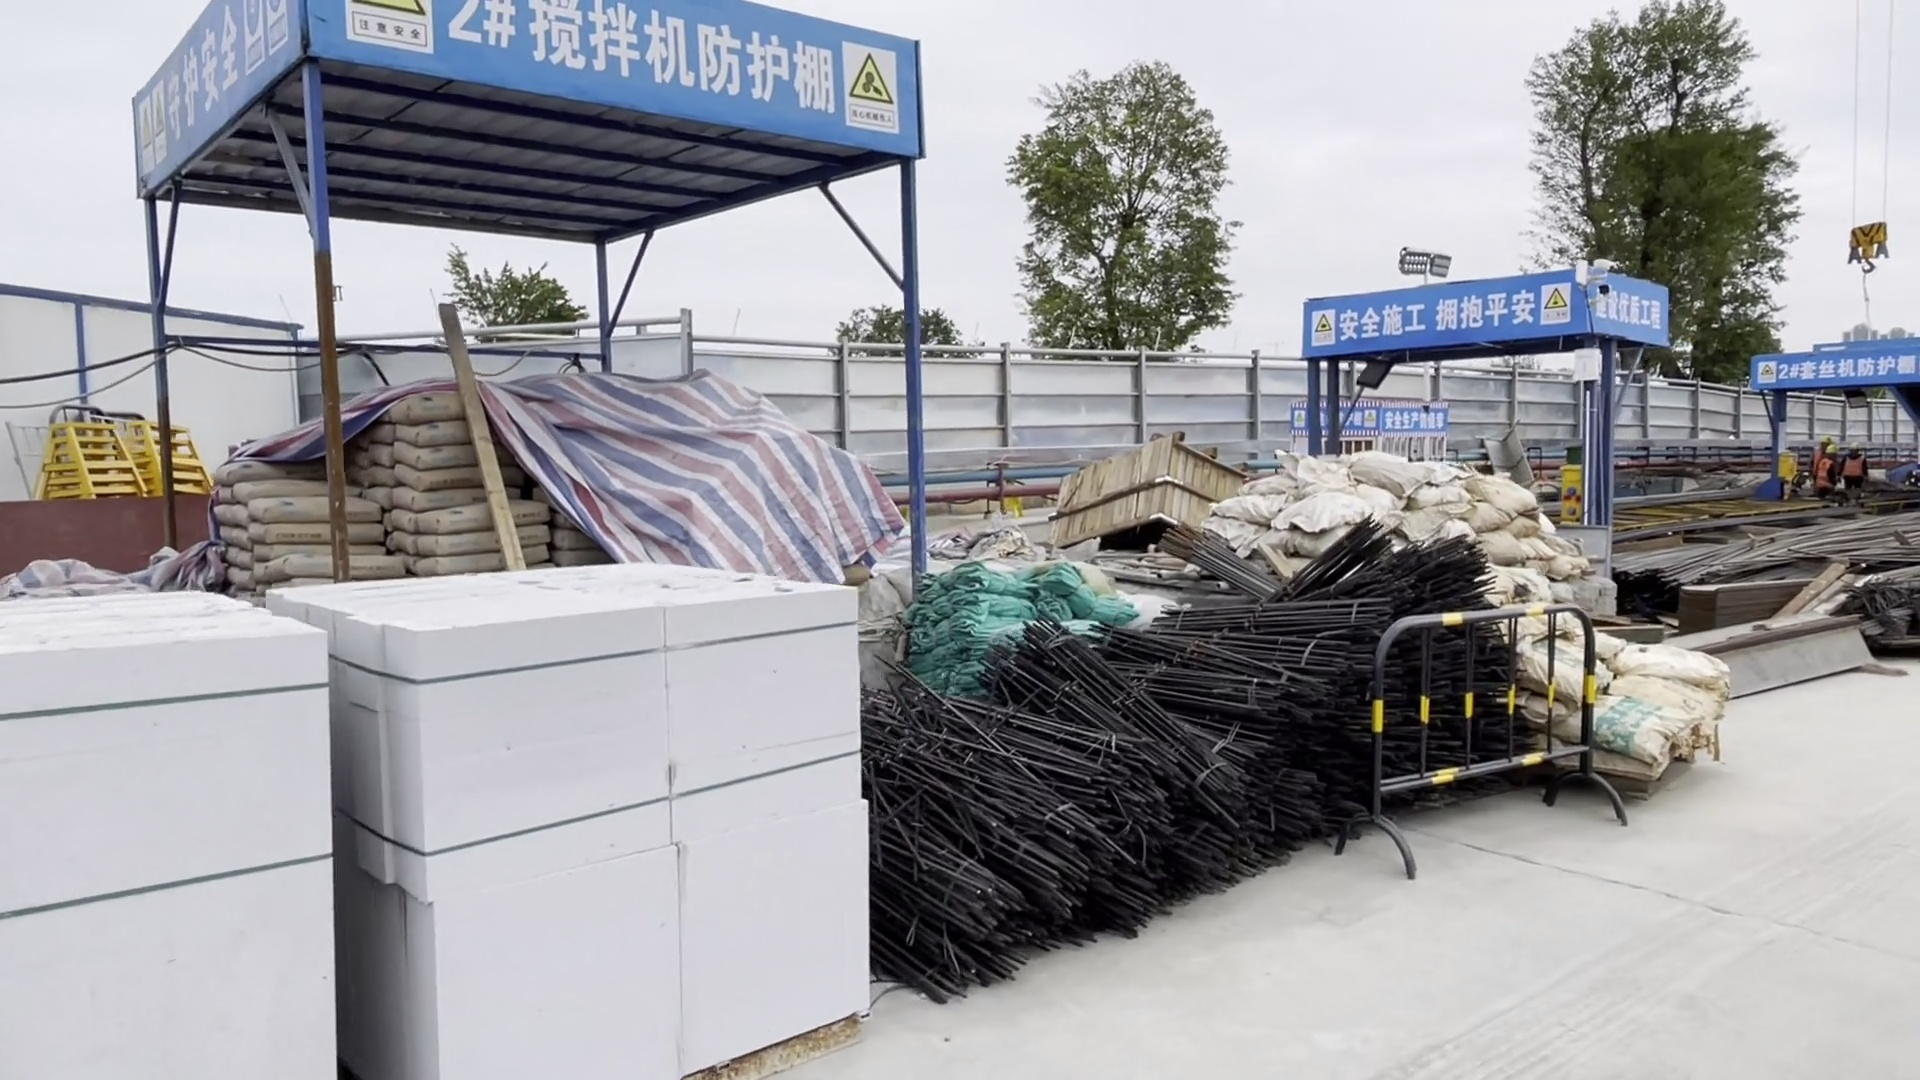brick: (357, 559, 858, 1080), (1, 585, 342, 1080)
ebox: (1549, 462, 1580, 527), (1774, 450, 1797, 484)
rebar: (1596, 512, 1920, 626)
slogan: (107, 17, 255, 121), (1315, 284, 1538, 347)
